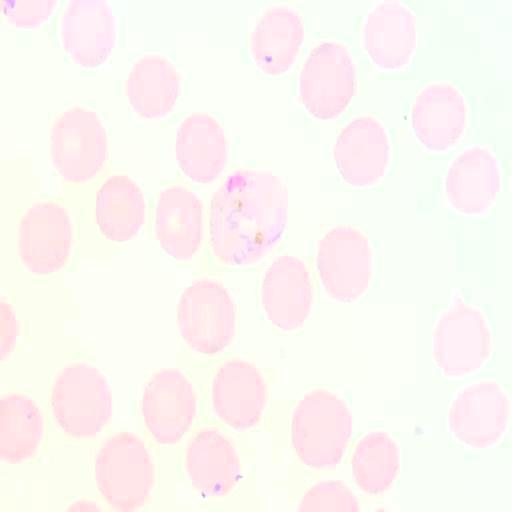Infected: (209, 168, 288, 264)
Uninfected: (290, 390, 353, 466), (50, 363, 113, 439), (94, 433, 154, 512), (176, 280, 234, 356), (432, 299, 488, 377), (50, 106, 107, 182), (299, 43, 355, 119), (143, 369, 197, 444), (317, 227, 370, 302), (333, 117, 388, 187), (185, 429, 240, 499), (18, 201, 70, 275), (448, 382, 505, 448), (154, 185, 204, 259), (261, 256, 310, 331), (411, 82, 465, 150), (444, 147, 498, 215), (213, 359, 265, 429), (363, 1, 416, 69), (61, 1, 115, 67), (94, 175, 146, 243), (250, 7, 303, 73), (173, 115, 224, 182), (126, 57, 179, 119), (351, 431, 398, 492), (0, 395, 40, 462)
